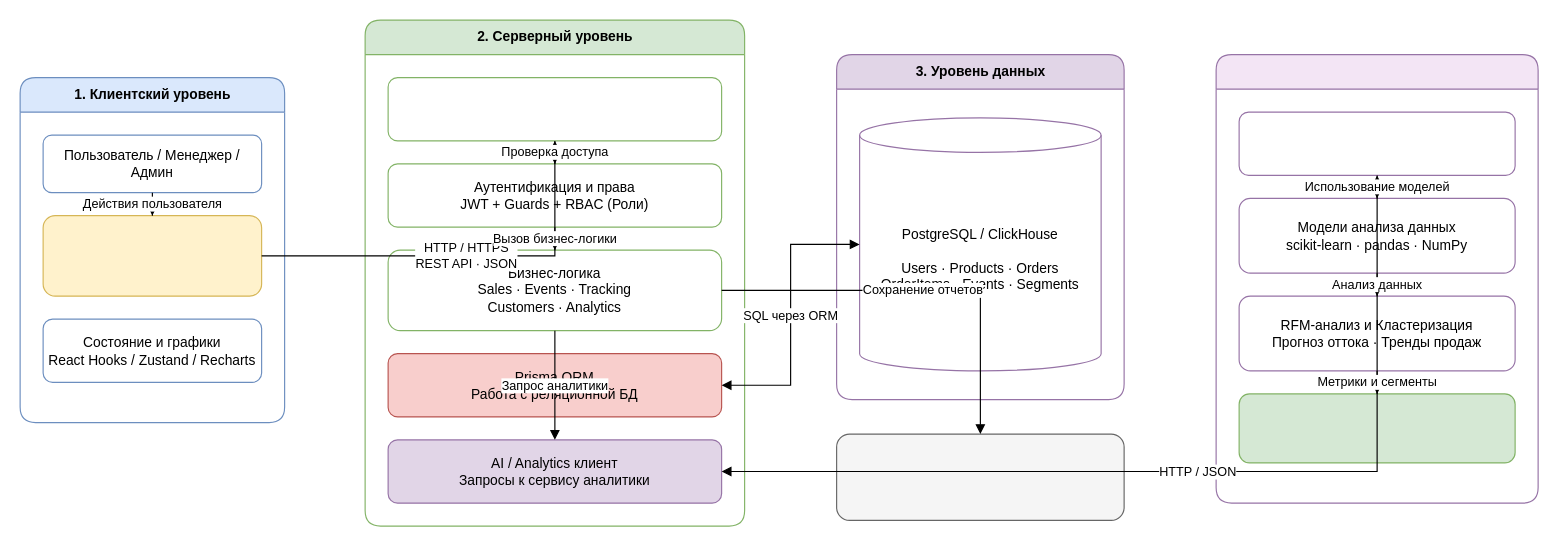
This 1558x546 diagram has some shape labels left out. The shapes that lost their labels are listed below. From the top down, each one's box as (x1, y1, x2, y2) in pixels, then its label:
(387, 76, 722, 141): NestJS + TypeScript REST API / JSON
(1238, 111, 1515, 175): Python + FastAPI Analytics & ML REST API
(42, 214, 262, 296): Next.js + React TypeScript Tailwind CSS + Dashboards
(1215, 53, 1538, 503): 4. Аналитический / ML-сервис
(1238, 393, 1515, 463): Результат: Сегменты клиентов и предиктивная аналитика
(835, 433, 1124, 520): 5. Экспорт и отчеты S3-совместимое хранилище / CSV / Excel (опционально)
